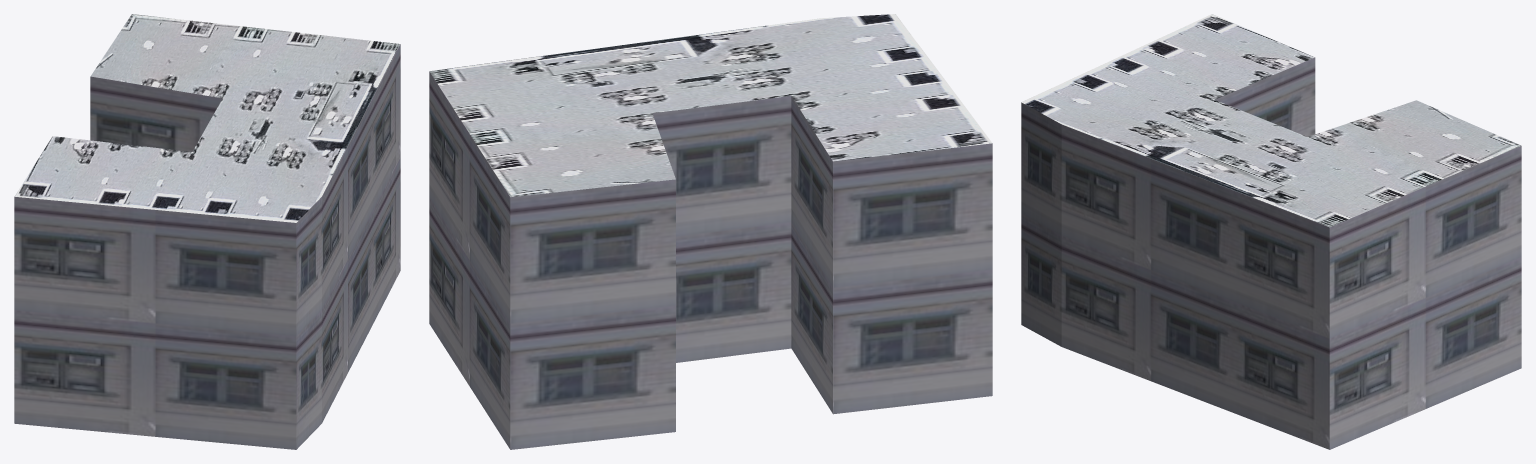
Rendered from ResTex__4344.fbx.
3 views of the same model, side by side, from view 1: azimuth 30°, elevation 25°; view 2: azimuth 150°, elevation 25°; view 3: azimuth 270°, elevation 25° (orthographic). The views are drawn at different scales.
Parts seen in each view (by area): view 1: CityEngineMaterial_1_m, CityEngineMaterial_8_m; view 2: CityEngineMaterial_1_m, CityEngineMaterial_8_m; view 3: CityEngineMaterial_1_m, CityEngineMaterial_8_m.
Boxes of the visible parts, box(x1,y1,x2,y2) form: CityEngineMaterial_1_m: box(14, 44, 400, 449); CityEngineMaterial_8_m: box(15, 14, 400, 222); CityEngineMaterial_1_m: box(429, 71, 992, 449); CityEngineMaterial_8_m: box(429, 14, 991, 197); CityEngineMaterial_1_m: box(1021, 57, 1521, 449); CityEngineMaterial_8_m: box(1021, 14, 1521, 227).
Bounding box in the file's own units: 12.34 × 6 × 12.23.
2 materials, 2 textured.
